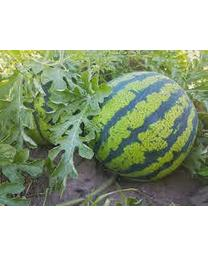watermelon: (86, 69, 199, 185)
